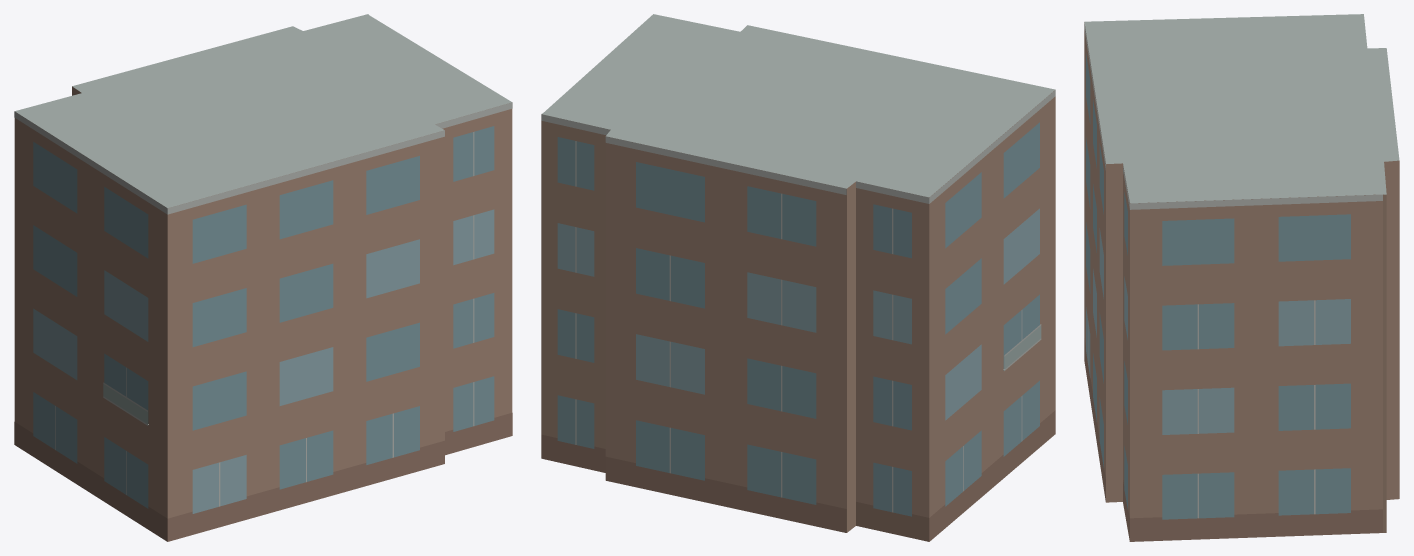
Rendered from survey-upis-32607004.glb.
The picture shows the model from 3 angles, left to right: view 1: azimuth 30°, elevation 25°; view 2: azimuth 150°, elevation 25°; view 3: azimuth 270°, elevation 25°; orthographic projection. The views are drawn at different scales.
Parts seen in each view (by area): view 1: survey-upis-32607004.tmp; view 2: survey-upis-32607004.tmp; view 3: survey-upis-32607004.tmp.
Boxes of the visible parts, x1,y1,x2,y2 form: survey-upis-32607004.tmp: (14, 14, 512, 541); survey-upis-32607004.tmp: (541, 14, 1055, 541); survey-upis-32607004.tmp: (1084, 14, 1399, 541).
Size of the model in its own units: 15.37 by 12.8 by 10.81.
